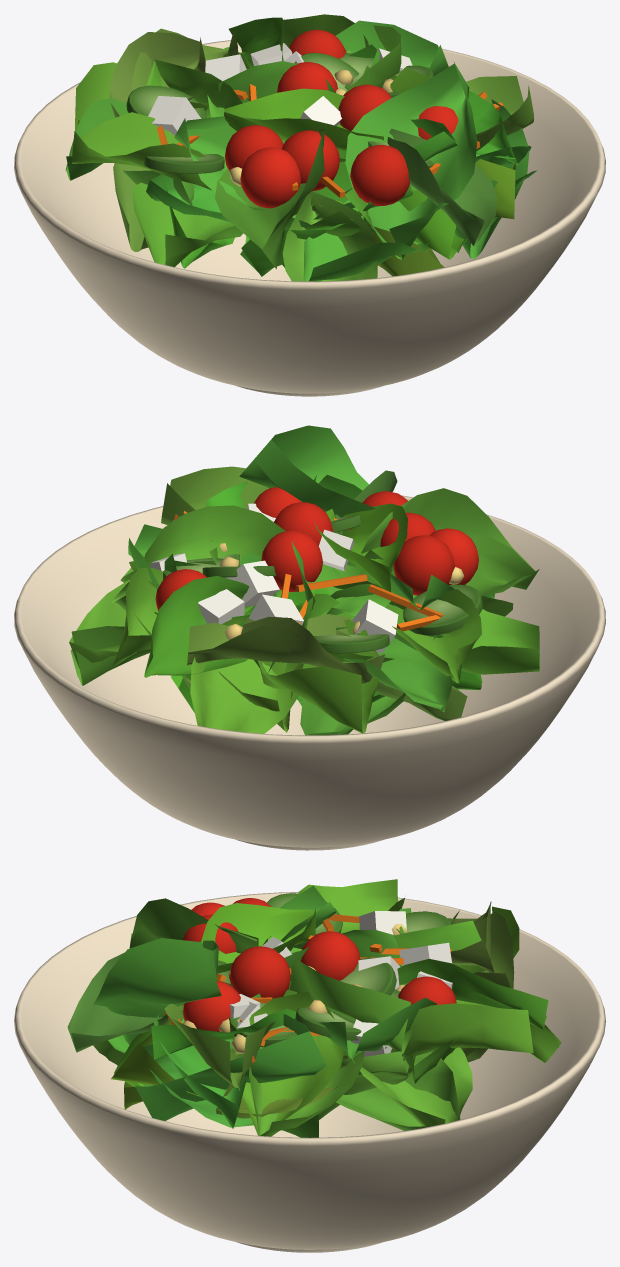
The model's file is ensalada.glb.
3 views of the same model, one above another, from view 1: azimuth 30°, elevation 25°; view 2: azimuth 150°, elevation 25°; view 3: azimuth 270°, elevation 25° (orthographic).
Visible parts, largest first — view 1: ensalada; view 2: ensalada; view 3: ensalada.
Part boxes in pixels (x1=…): ensalada: x1=14, y1=14, x2=605, y2=396; ensalada: x1=14, y1=425, x2=605, y2=850; ensalada: x1=14, y1=879, x2=605, y2=1252.
Size of the model in its own units: 0.22 by 0.1242 by 0.22.
